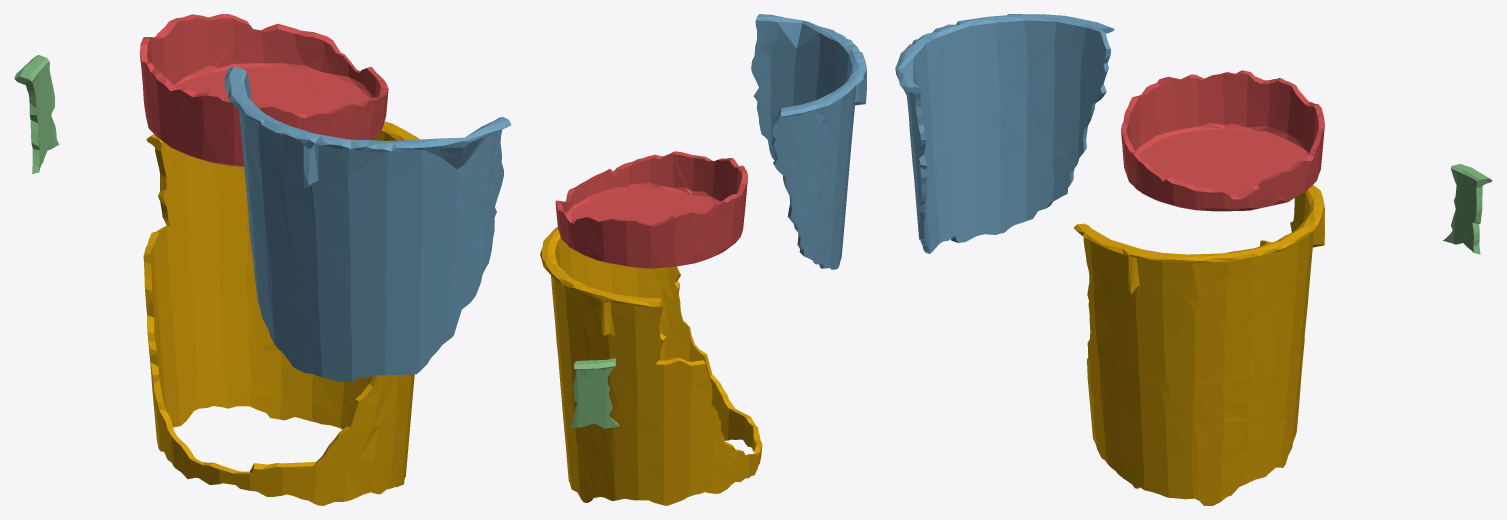
Rendered from fractured_34_4pcs_transformed.glb.
3 renders of one model, left to right at view 1: azimuth 30°, elevation 25°; view 2: azimuth 150°, elevation 25°; view 3: azimuth 270°, elevation 25°, orthographic. The views are drawn at different scales.
Parts seen in each view (by area): view 1: piece_2.obj, piece_0.obj, piece_1.obj, piece_3.obj; view 2: piece_0.obj, piece_2.obj, piece_1.obj, piece_3.obj; view 3: piece_0.obj, piece_2.obj, piece_1.obj, piece_3.obj.
Part boxes in pixels (x1,y1,x2,y2): piece_2.obj: (224,66,511,381); piece_0.obj: (143,121,419,505); piece_1.obj: (139,14,388,166); piece_3.obj: (14,54,58,173); piece_0.obj: (540,227,762,505); piece_2.obj: (751,14,866,269); piece_1.obj: (555,151,747,268); piece_3.obj: (570,358,619,428); piece_0.obj: (1073,185,1324,505); piece_2.obj: (895,14,1114,253); piece_1.obj: (1121,70,1324,211); piece_3.obj: (1443,164,1492,254).
Bounding box in the file's own units: 0.8594 × 1.45 × 1.97.
